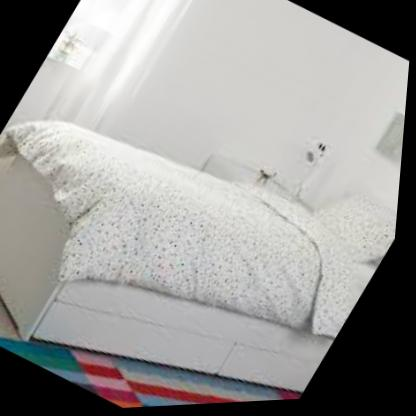Bed: (0, 31, 413, 416)
